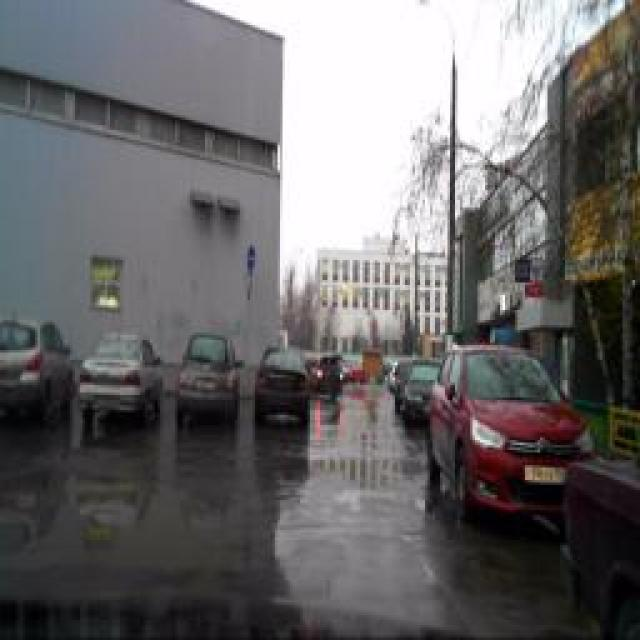sign: (247, 245, 255, 273)
